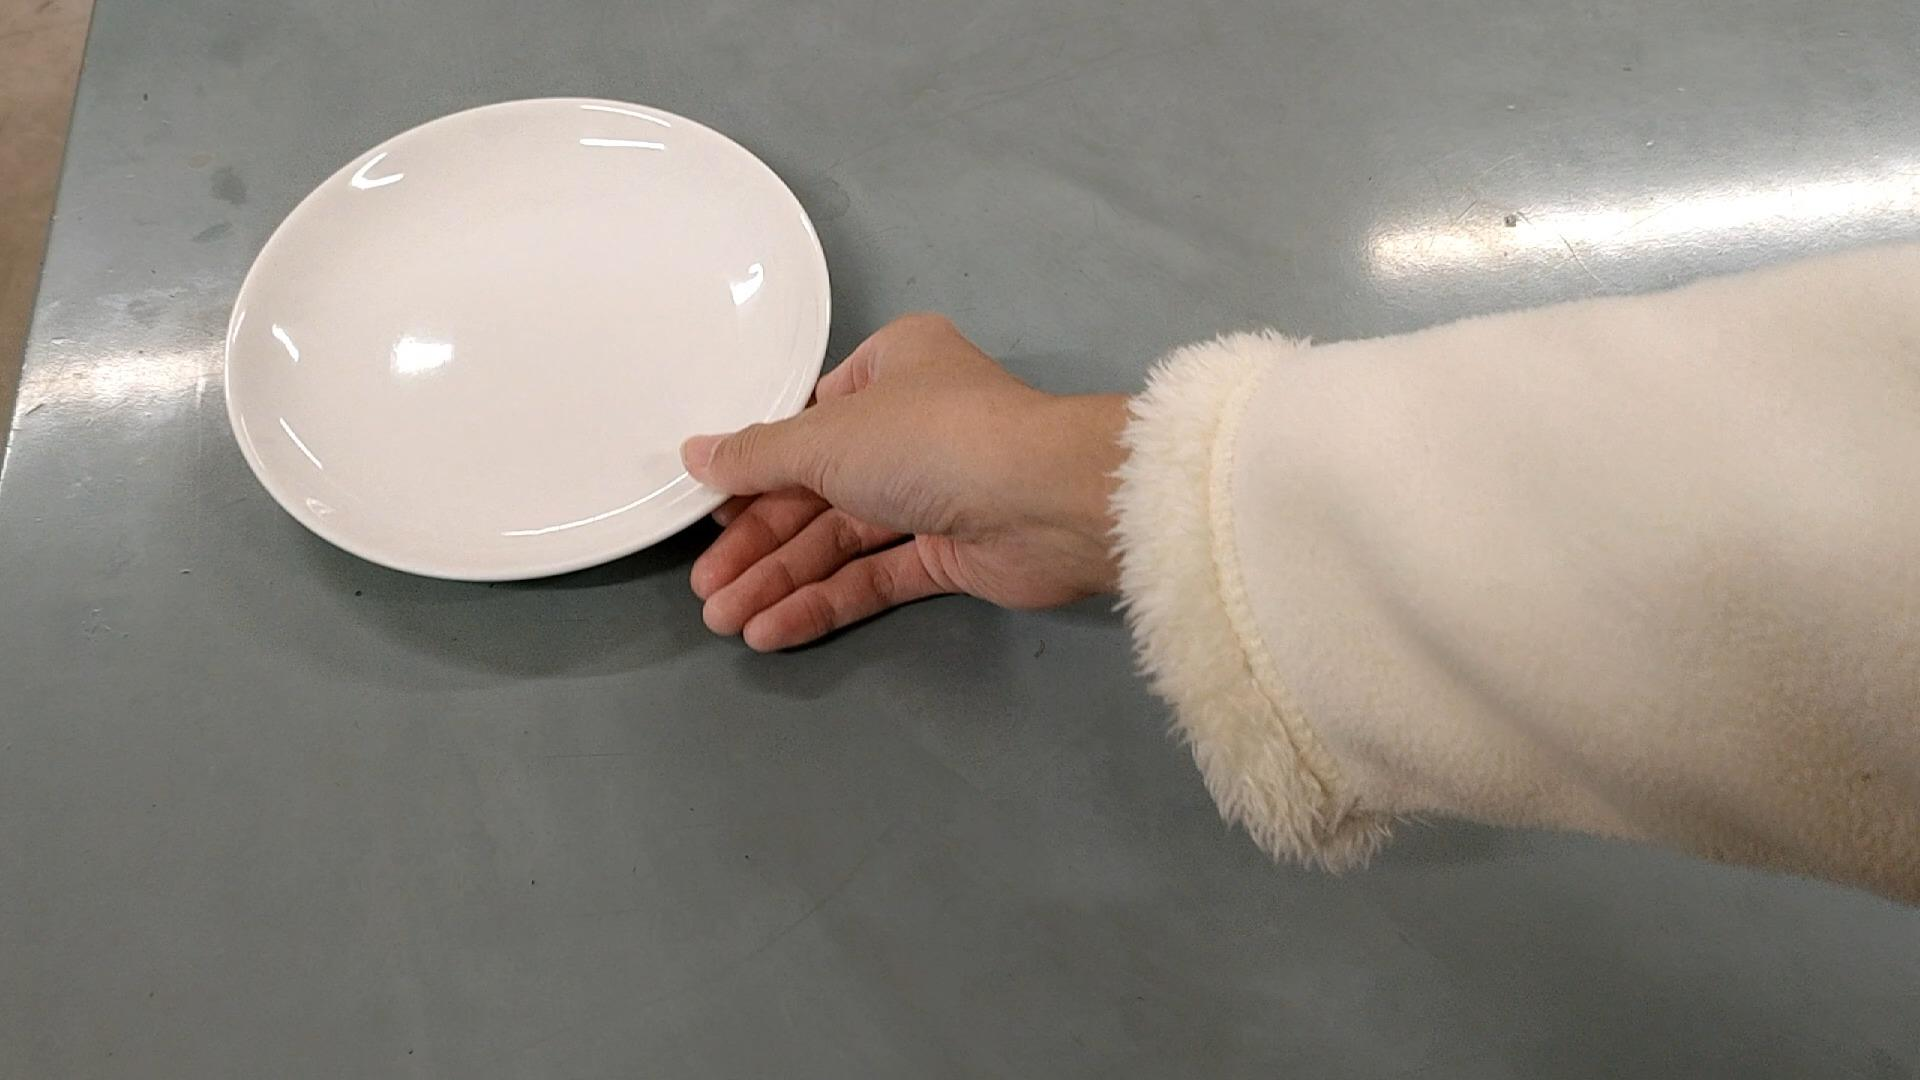plate: (223, 95, 833, 582)
